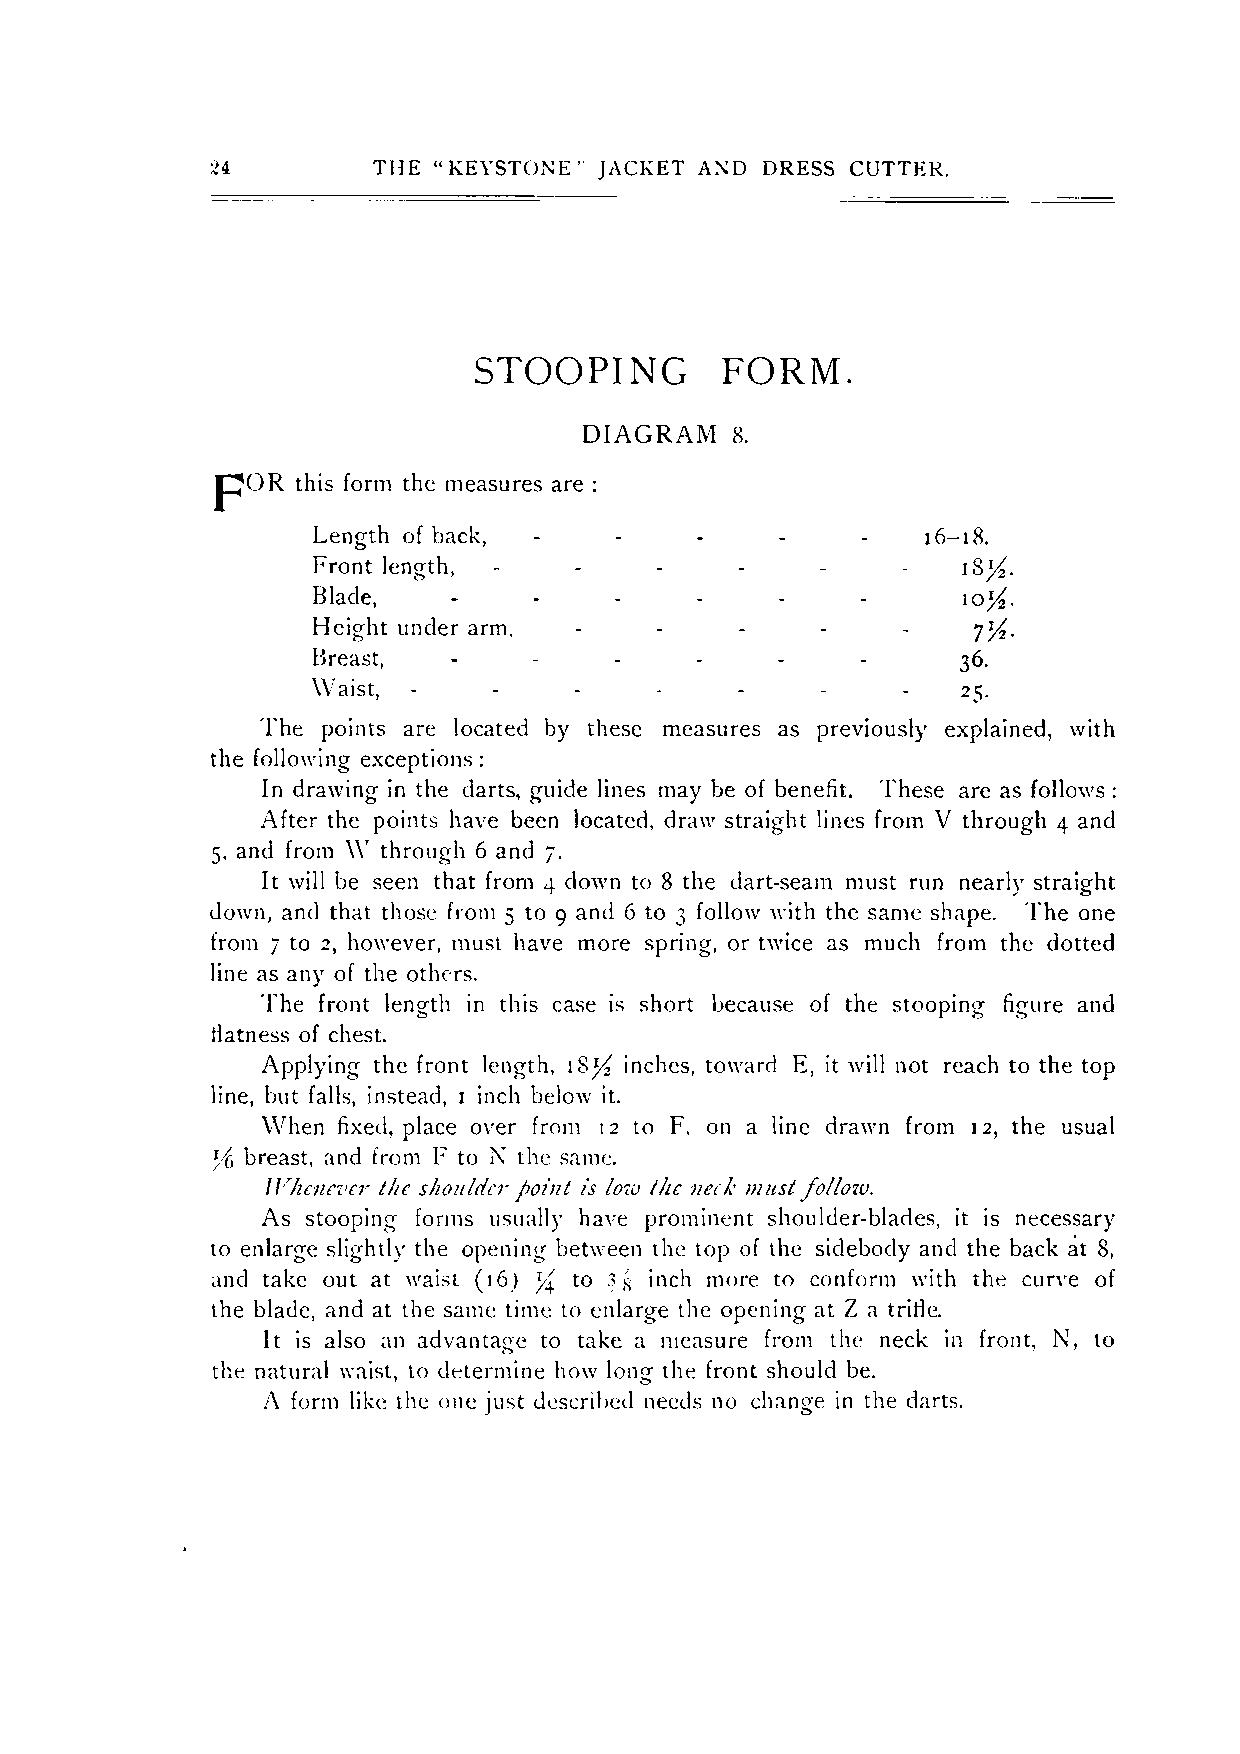chapter: (470, 352, 854, 448), (369, 154, 947, 184)
content: (207, 464, 1119, 1420)
content_pagenumber: (203, 154, 231, 178)
